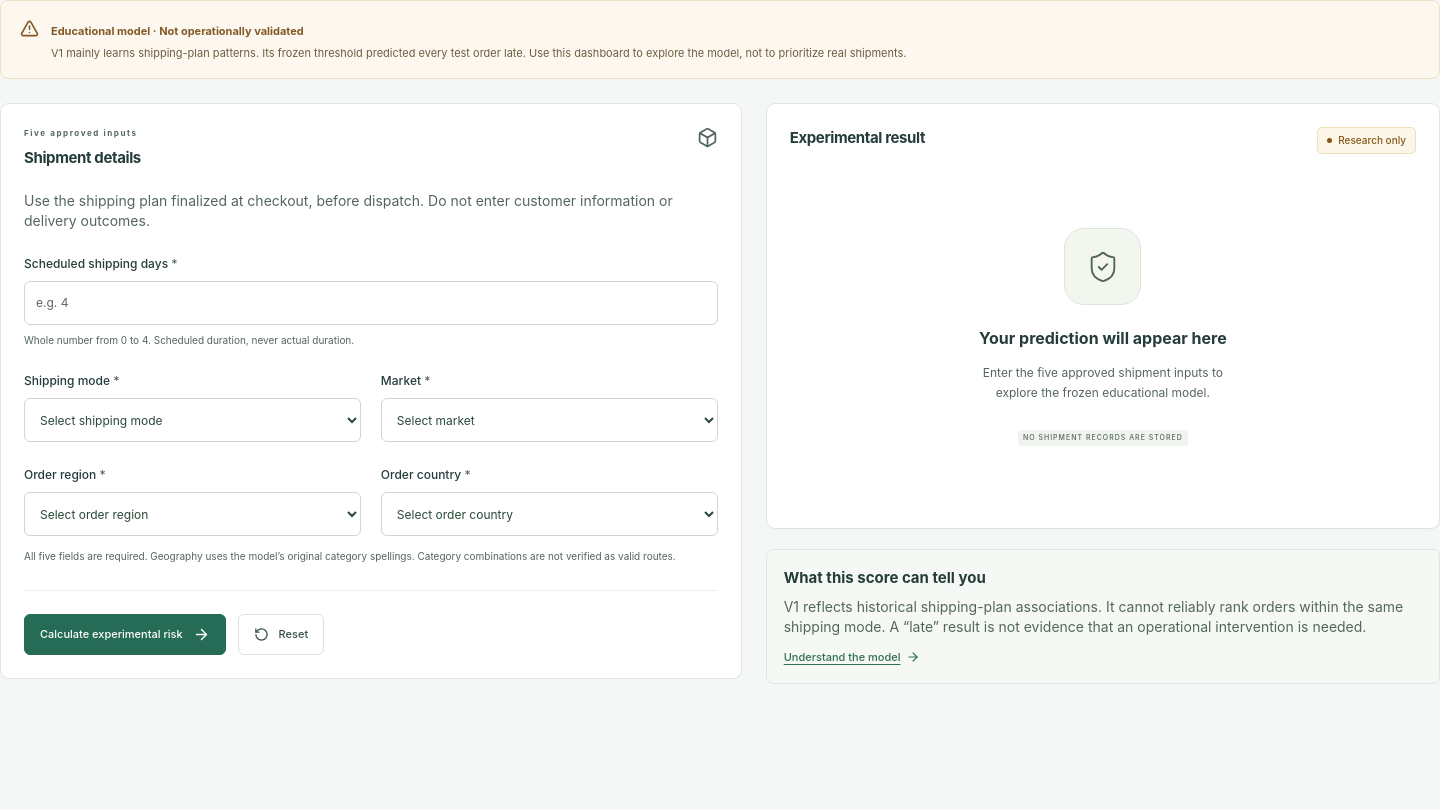
it: displays a not-late response without changing the model label
The image size is (1440, 810).
Type "4" into the number field labelled "Scheduled shipping days *" at [371, 303], box [24,281,718,325]
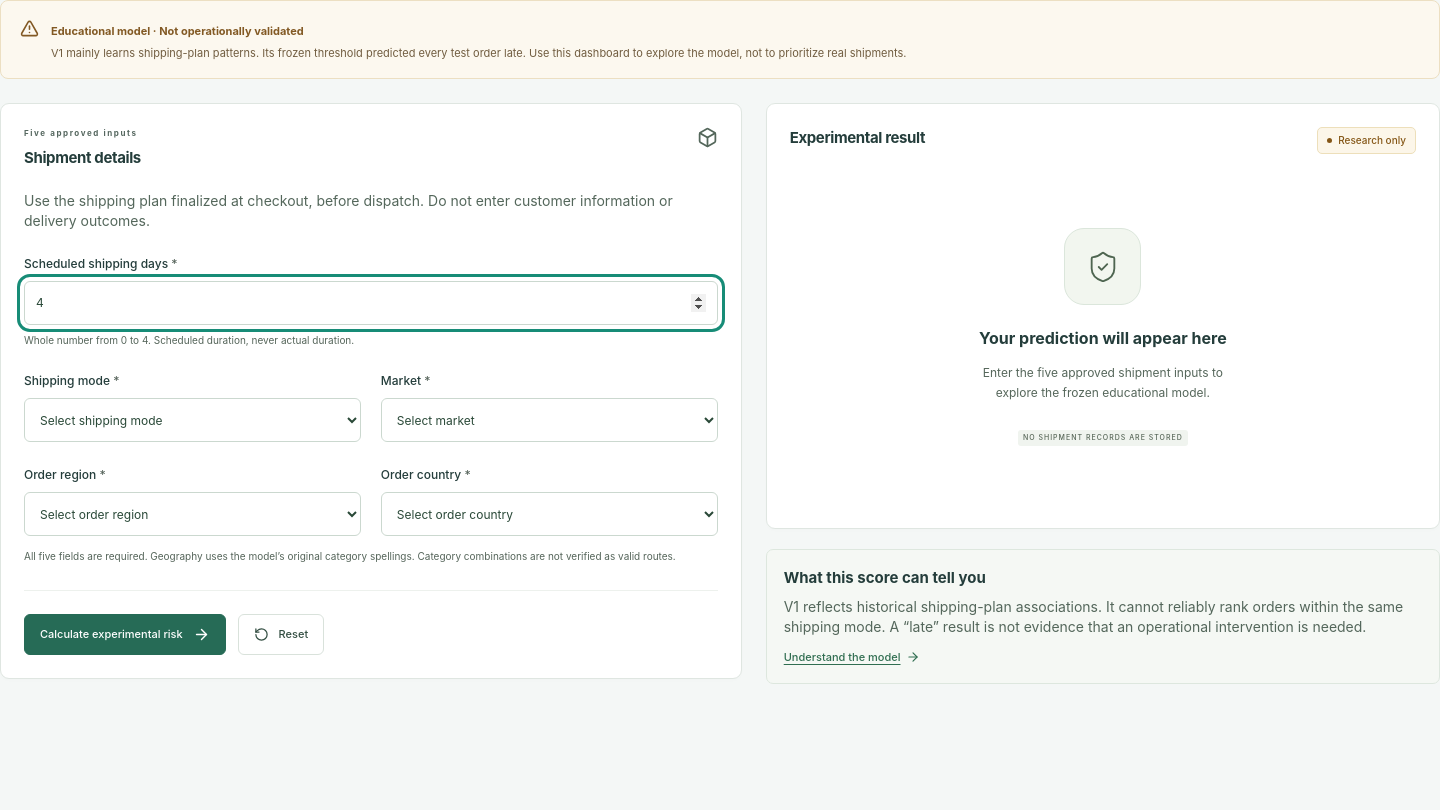
Select "Standard Class" in the dropdown labelled "Shipping mode *" at [192, 420], box [24,398,361,442]
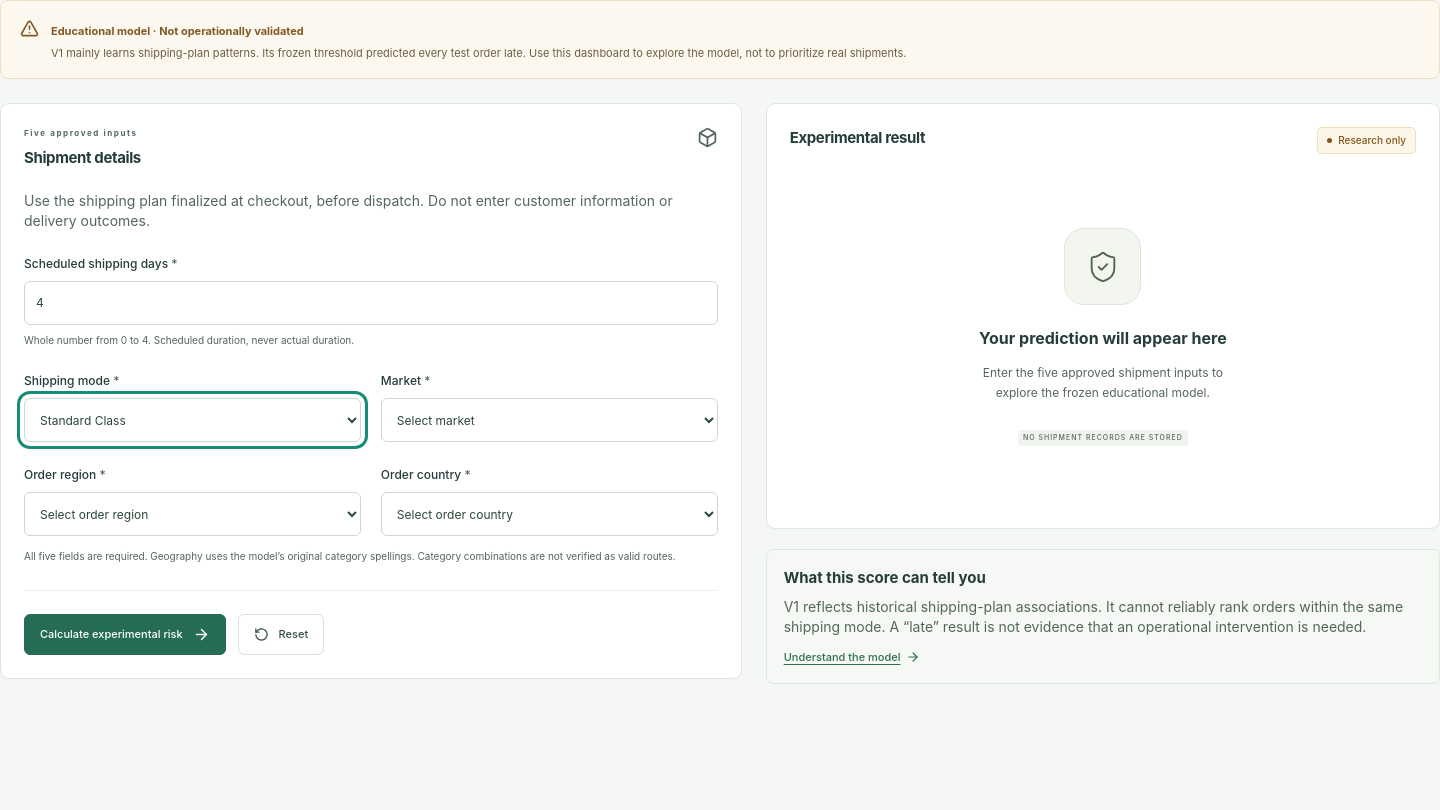
Select "Europe" in the dropdown labelled "Market *" at [549, 420], box [381,398,718,442]
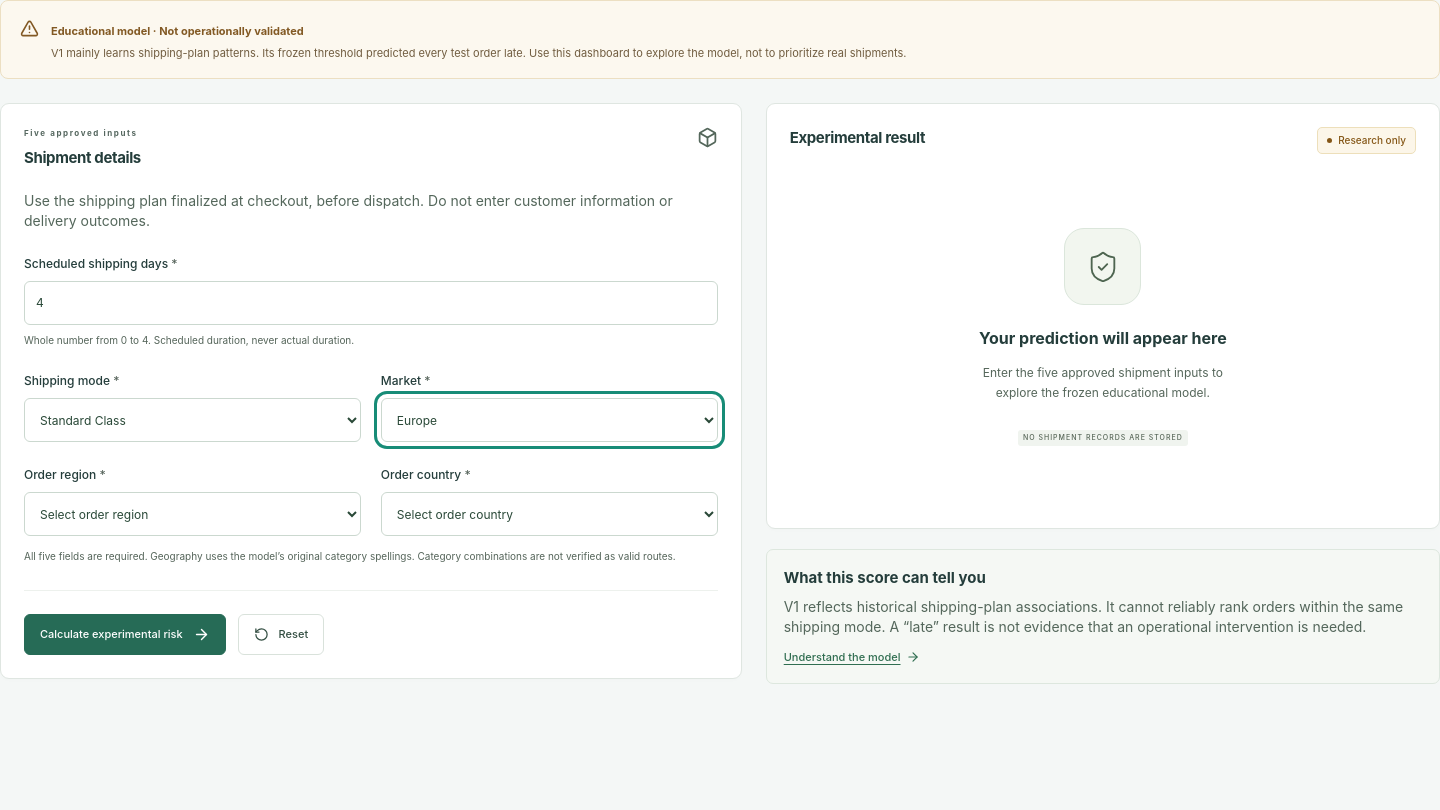
Select "Western Europe" in the dropdown labelled "Order region *" at [192, 514], box [24,492,361,536]
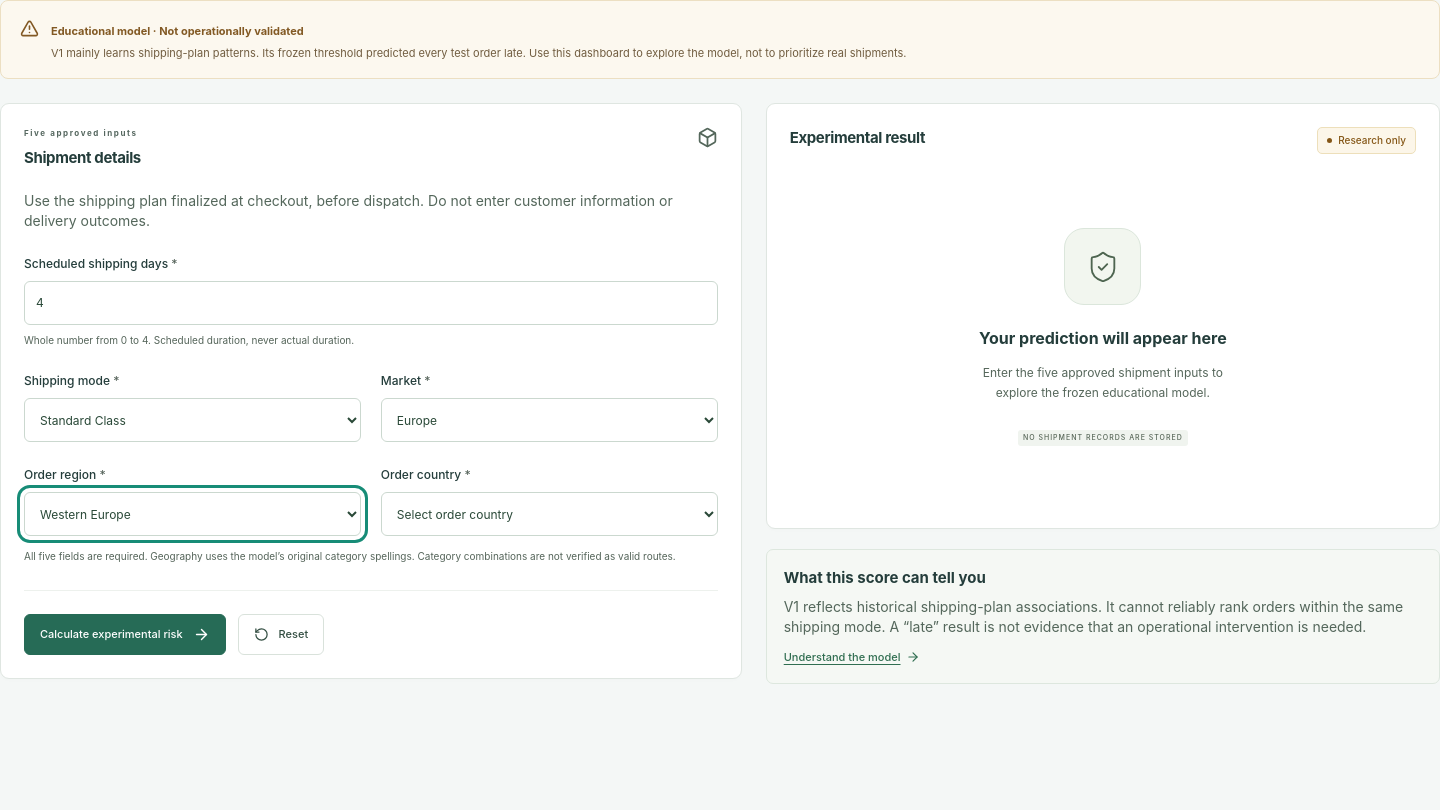
Select "Francia" in the dropdown labelled "Order country *" at [549, 514], box [381,492,718,536]
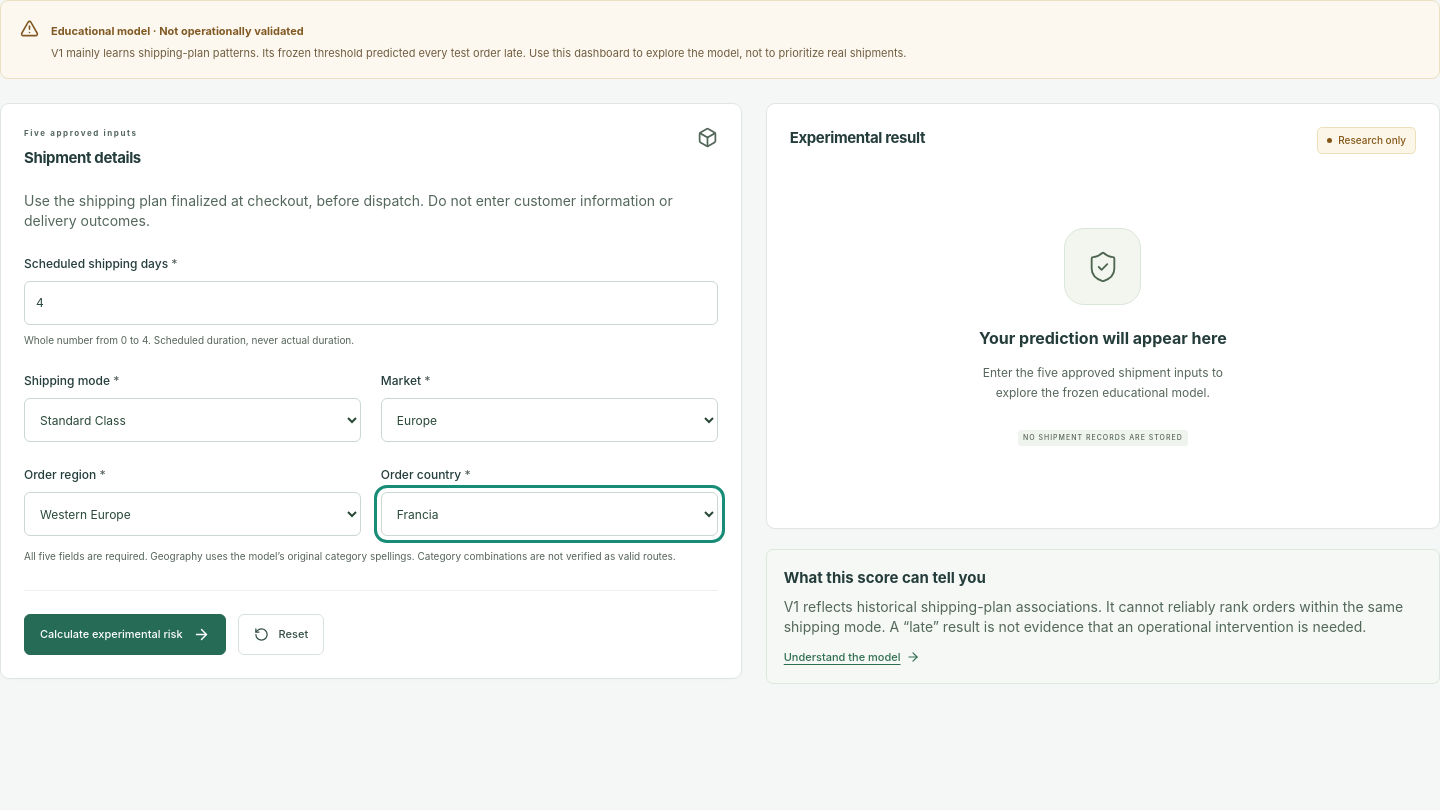
Click the button "Calculate experimental risk" at [125, 634], box [24,614,226,655]
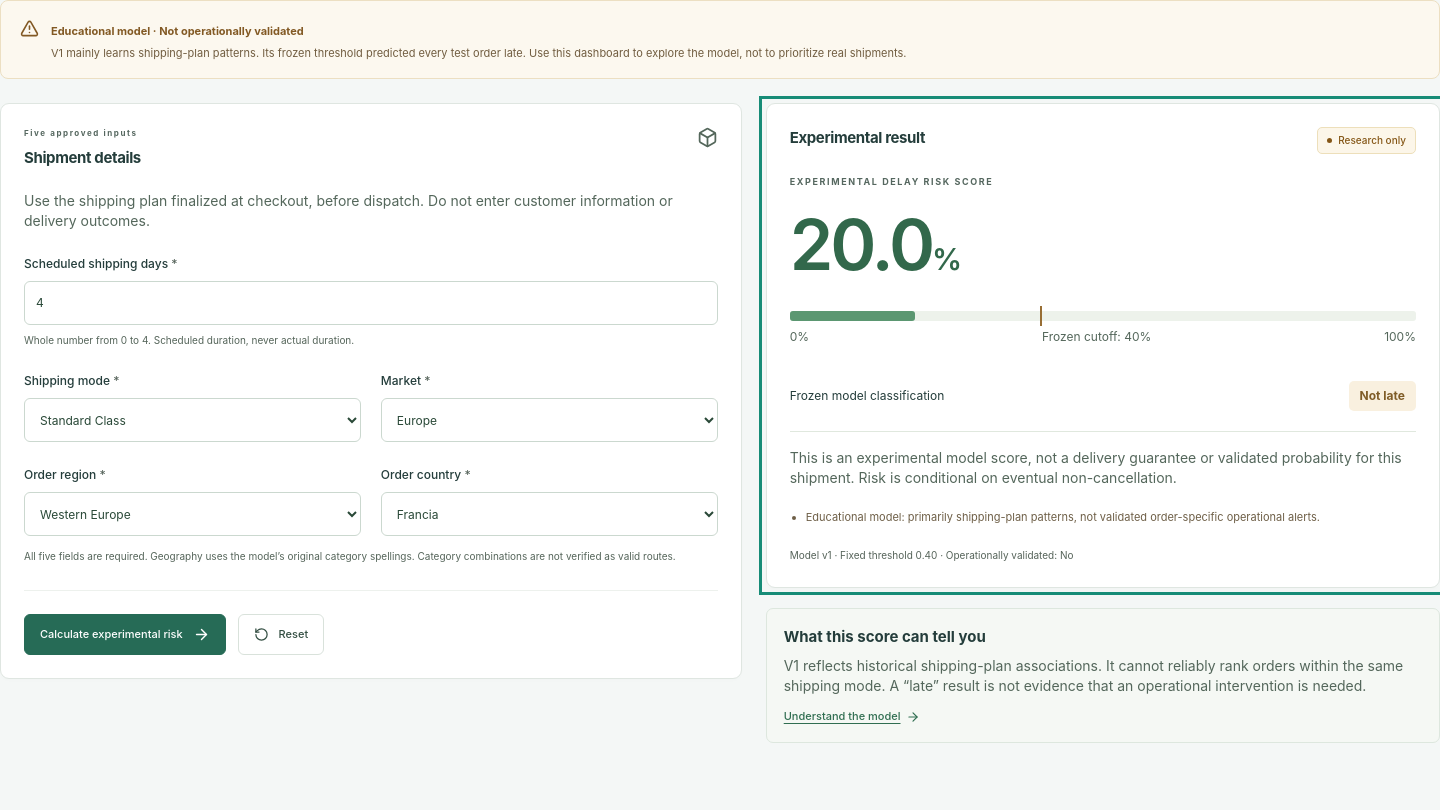
Result: the text "Not late" is shown at [1349,381,1416,411]
Result: the text "20.0" is shown at [790,202,932,287]
Result: the text "not a delivery guarantee" is shown at [790,449,1402,486]
